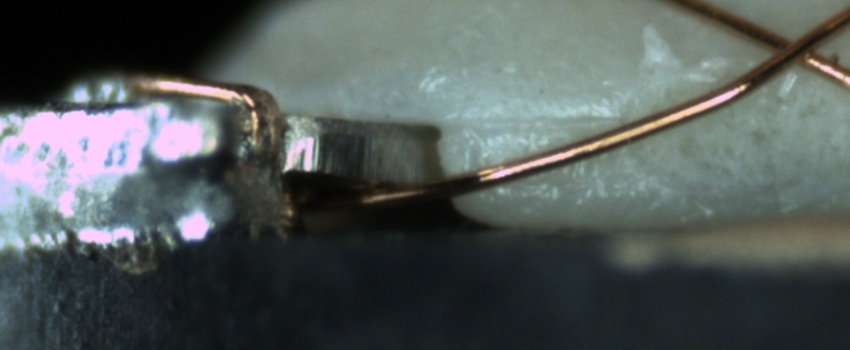CL: (748, 15, 838, 80)
DL: (464, 91, 624, 148)
TE: (121, 63, 290, 169)
